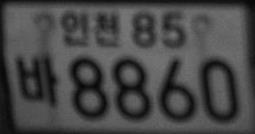0: (201, 58, 238, 122)
5: (161, 11, 186, 48)
6: (158, 59, 196, 121)
8: (69, 56, 108, 119), (112, 57, 151, 120), (131, 12, 156, 48)
바: (15, 55, 59, 107)
인천_H: (60, 11, 120, 47)
